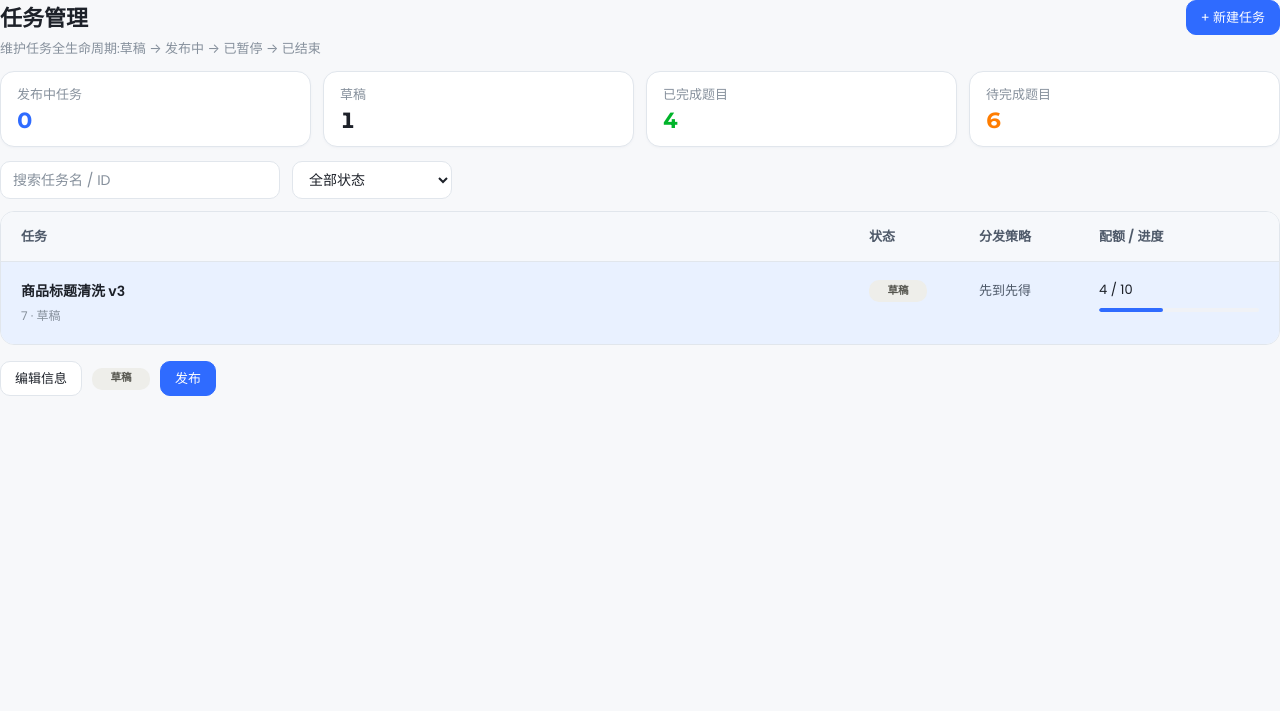
Test: TaskManagePanel › shows the template tab in the edit drawer
Click the button with aria-label "编辑任务" at (41,378), box left=0, top=361, right=82, bottom=396
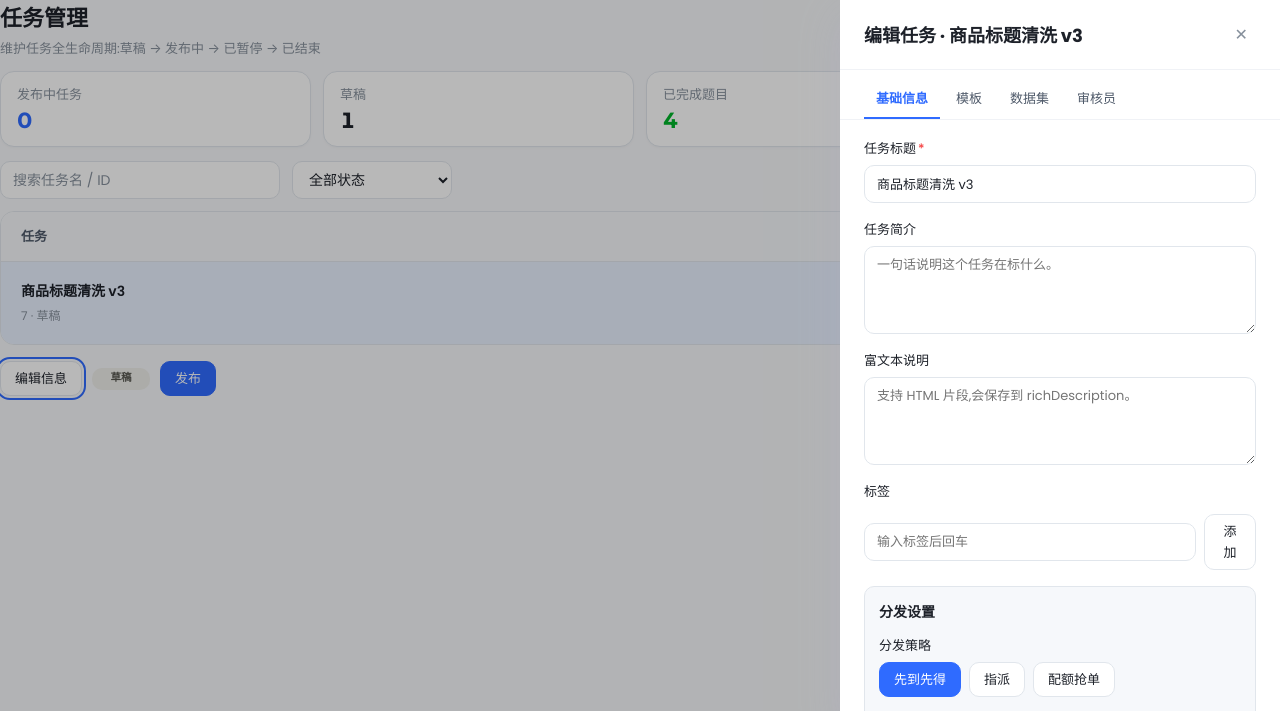
Expected: the button with aria-label "抽屉标签 模板" is shown, left=944, top=80, right=994, bottom=119
